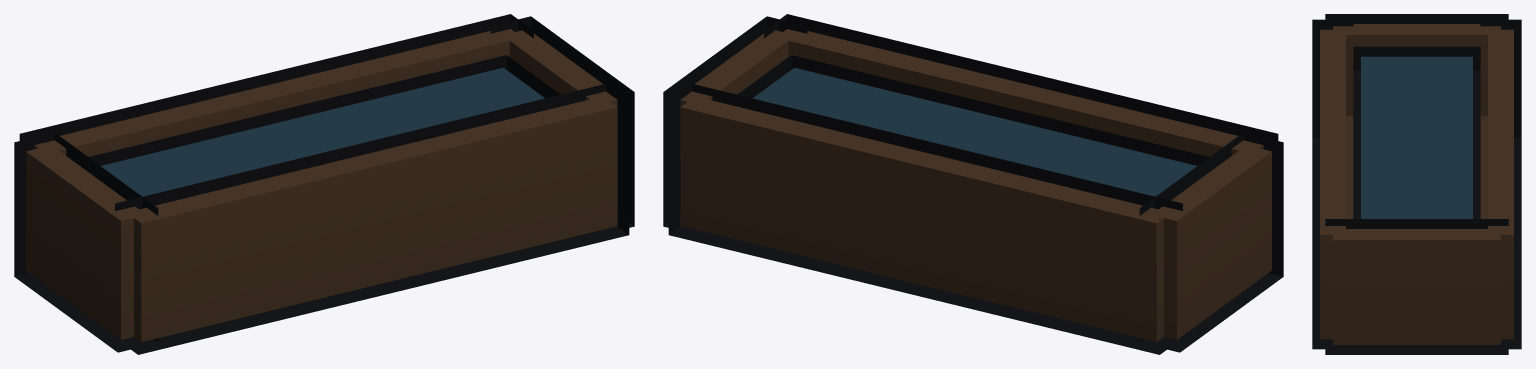
The model's file is ranch_trough.glb.
The picture shows the model from 3 angles, left to right: view 1: azimuth 30°, elevation 25°; view 2: azimuth 150°, elevation 25°; view 3: azimuth 270°, elevation 25°; orthographic projection. The views are drawn at different scales.
Parts seen in each view (by area): view 1: prop; view 2: prop; view 3: prop.
Part boxes in pixels (<box>): prop: <box>14,14,634,354</box>; prop: <box>663,14,1283,354</box>; prop: <box>1312,14,1521,354</box>.
Size of the model in its own units: 2.82 by 0.7008 by 1.12.
